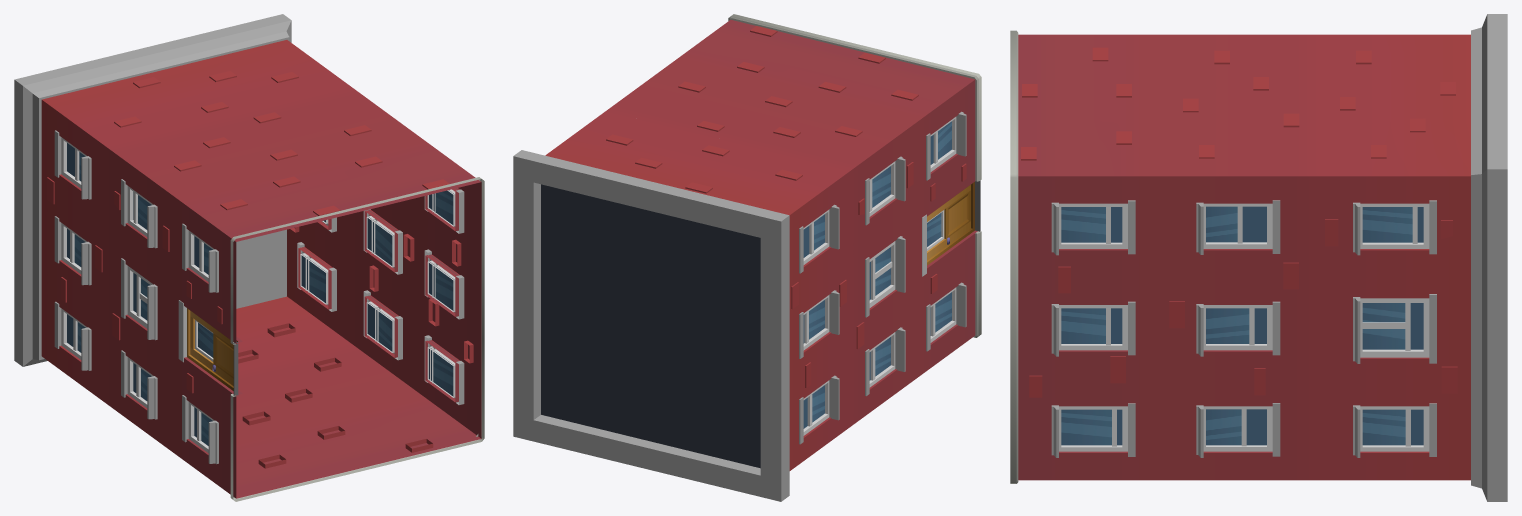
File: Building_2_6_J.fbx
3 renders of one model, left to right at view 1: azimuth 30°, elevation 25°; view 2: azimuth 150°, elevation 25°; view 3: azimuth 270°, elevation 25°, orthographic. The views are drawn at different scales.
Parts seen in each view (by area): view 1: Building_2_6_J; view 2: Building_2_6_J; view 3: Building_2_6_J.
Boxes of the visible parts, x1,y1,x2,y2 form: Building_2_6_J: (14, 14, 484, 501); Building_2_6_J: (513, 14, 981, 501); Building_2_6_J: (1010, 14, 1507, 501).
Size of the model in its own units: 620 by 620 by 840.
